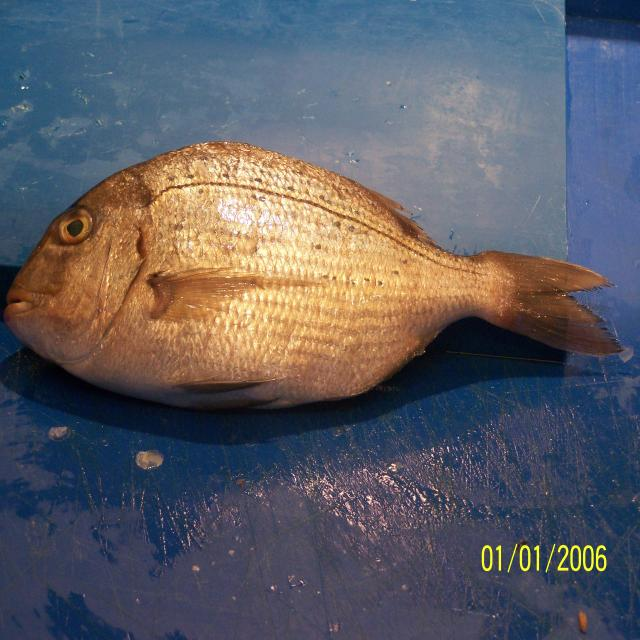Red-Sea-Bream-mercan-: (2, 141, 624, 414)
